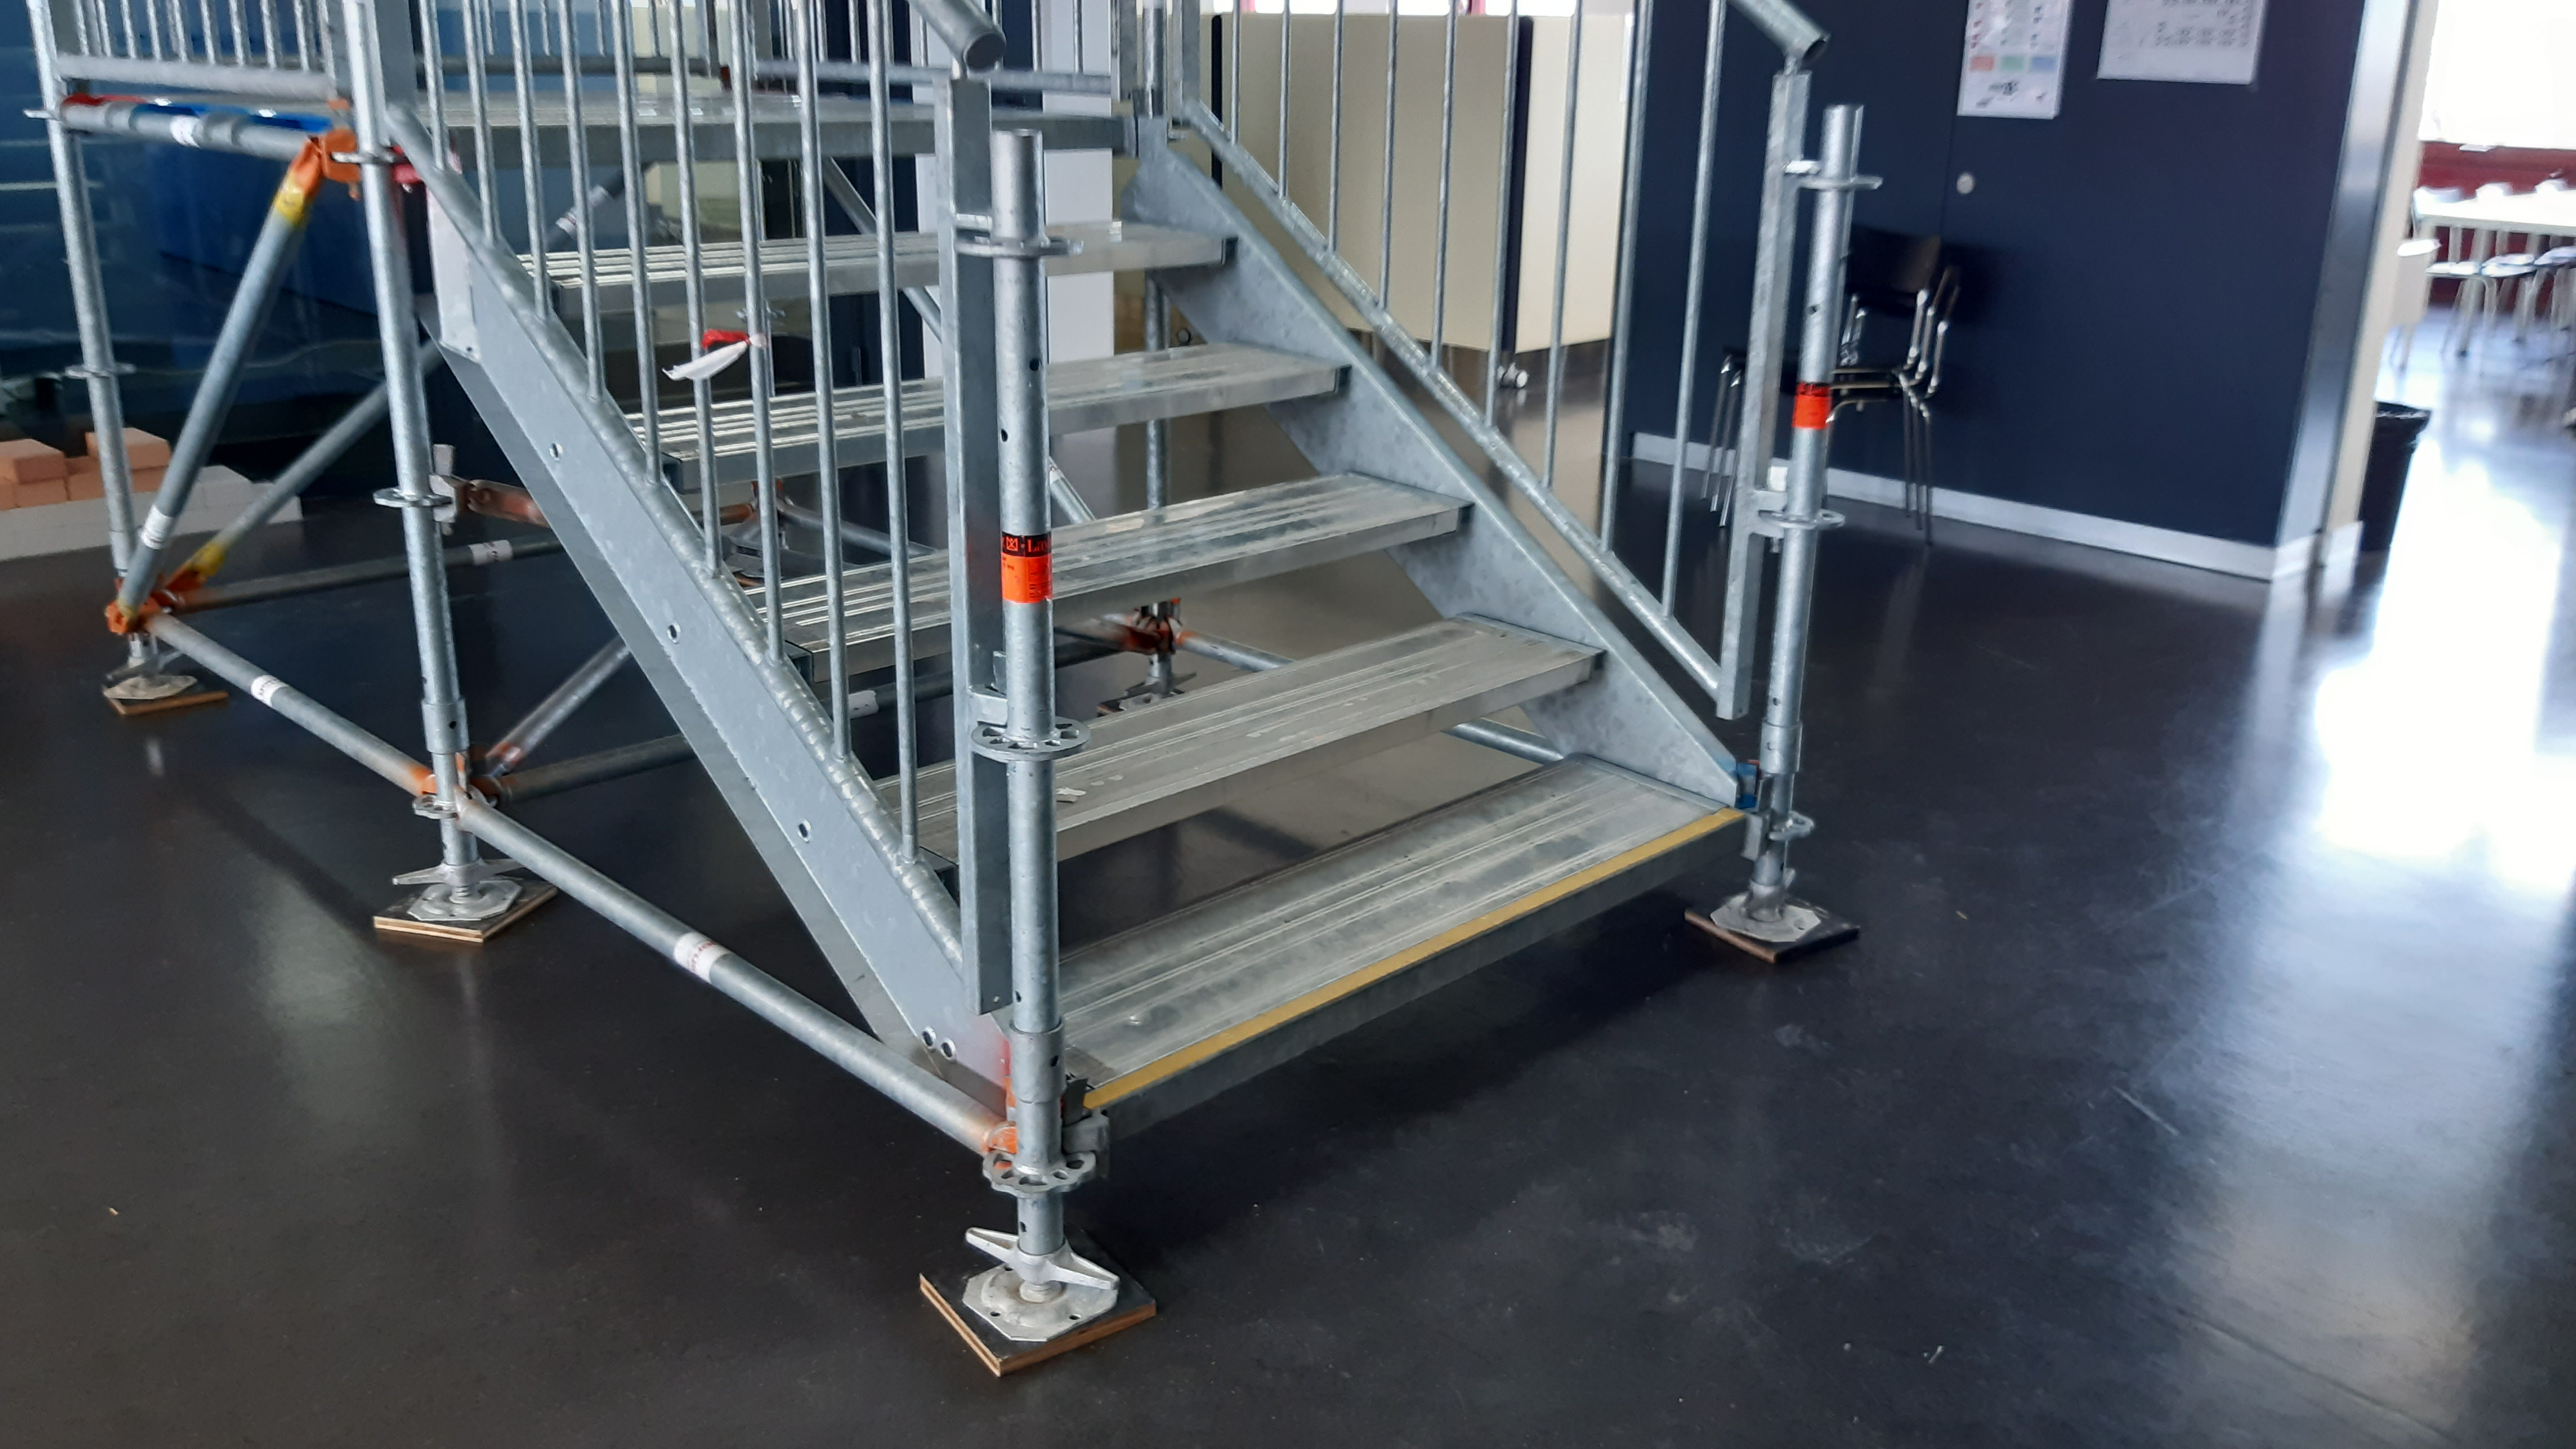brick: (88, 428, 170, 467), (200, 464, 253, 504), (2, 439, 57, 476), (60, 458, 104, 499), (2, 508, 67, 531), (2, 476, 58, 502), (5, 534, 62, 557), (65, 525, 106, 548), (73, 501, 108, 524)
edge: (1088, 809, 1737, 1136)
stairs: (931, 5, 1859, 1380)
